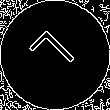L_SE: (26, 26, 84, 84)
